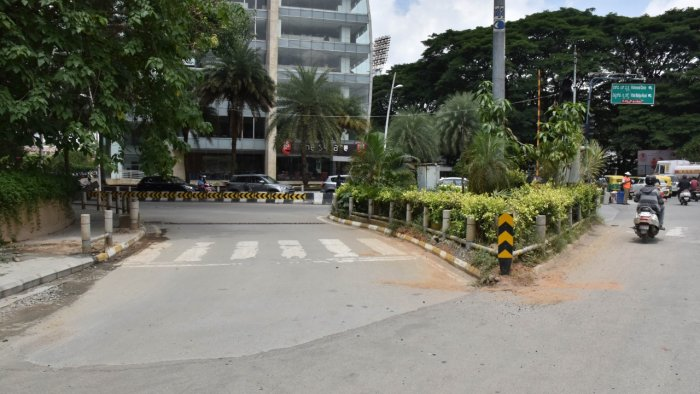bike: (636, 177, 662, 243), (676, 174, 692, 206)
car: (227, 174, 296, 192), (135, 176, 194, 191)
left turn: (139, 191, 206, 198), (207, 192, 239, 198), (288, 191, 306, 201), (252, 190, 267, 201), (271, 191, 287, 201), (240, 192, 251, 200)
